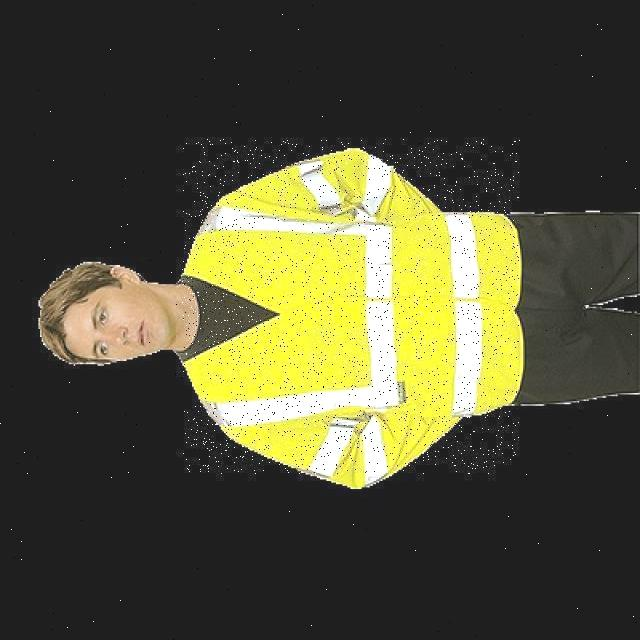Vest: (182, 138, 520, 473)
